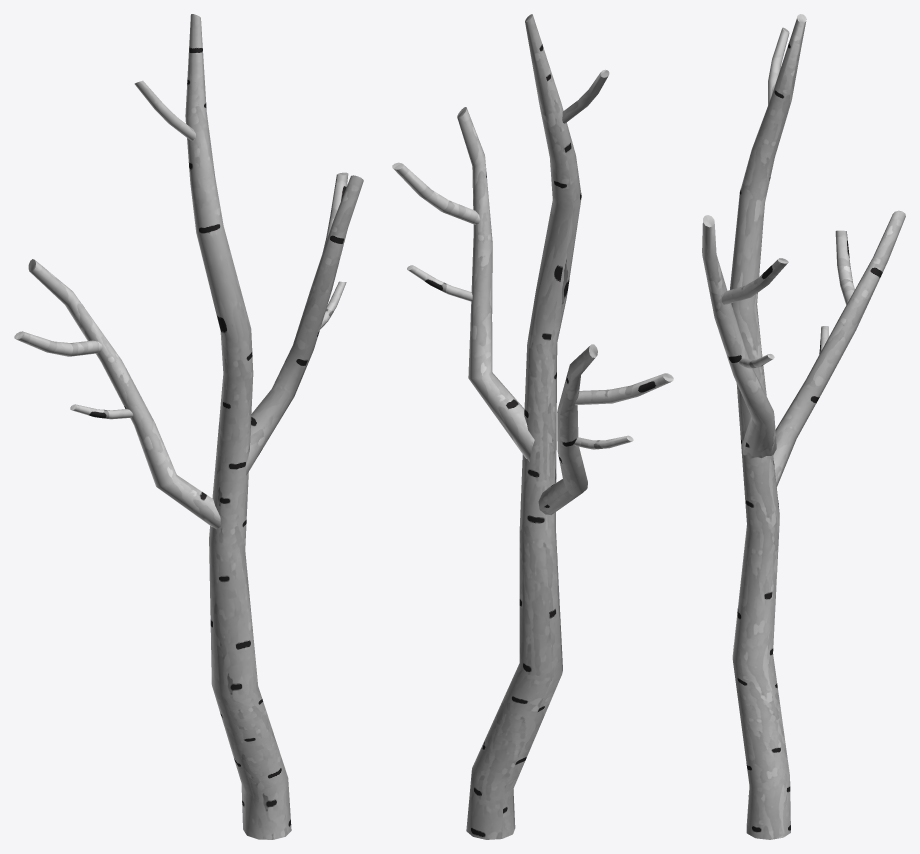
Rendered from quaternius-textured-stylized-trees-deadbirch-7.glb.
3 renders of one model, left to right at view 1: azimuth 30°, elevation 25°; view 2: azimuth 150°, elevation 25°; view 3: azimuth 270°, elevation 25°, orthographic. The views are drawn at different scales.
Visible parts, largest first — view 1: DeadBirch_7; view 2: DeadBirch_7; view 3: DeadBirch_7.
Part boxes in pixels (left/top/right/bottom): DeadBirch_7: left=14, top=14, right=363, bottom=839; DeadBirch_7: left=392, top=14, right=673, bottom=839; DeadBirch_7: left=702, top=14, right=905, bottom=839.
Bounding box in the file's own units: 3.81 × 9.85 × 2.31.
1 material, 1 textured.
